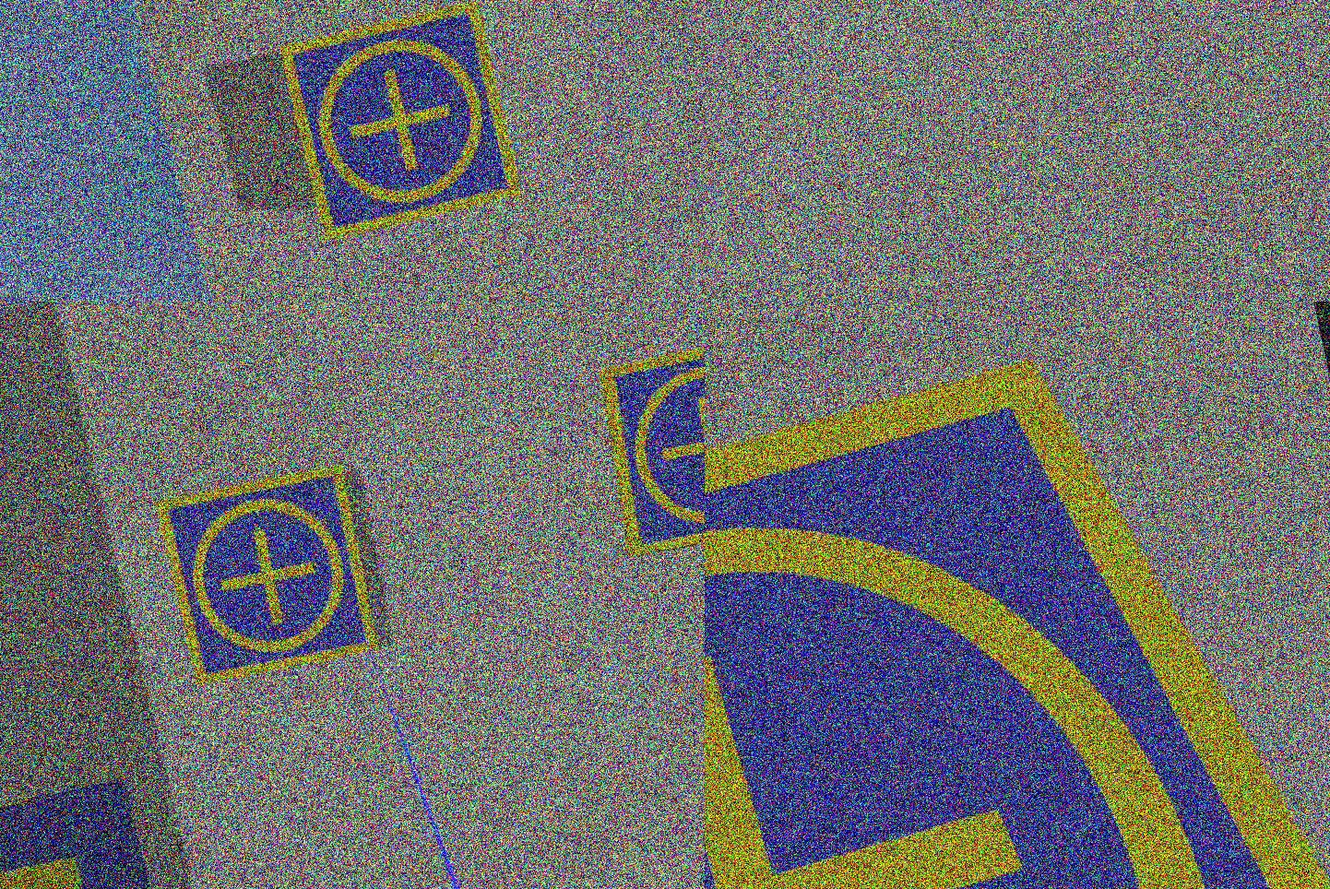small_base: (705, 314, 1330, 889), (272, 1, 526, 243), (153, 461, 386, 694), (592, 330, 705, 564)
